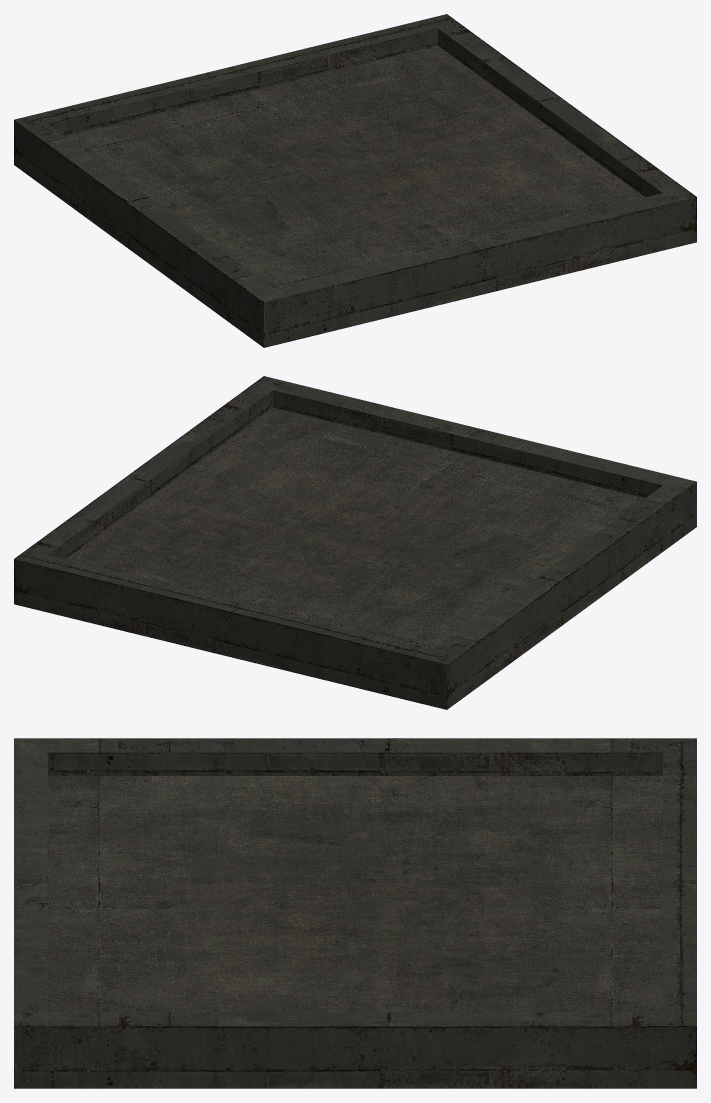
Rendered from floor_ceiling_hr_6.glb.
3 renders of one model, top to bottom at view 1: azimuth 30°, elevation 25°; view 2: azimuth 150°, elevation 25°; view 3: azimuth 270°, elevation 25°, orthographic. The views are drawn at different scales.
Visible parts, largest first — view 1: floor_ceiling_hr_6; view 2: floor_ceiling_hr_6; view 3: floor_ceiling_hr_6.
Boxes of the visible parts, x1=… form: floor_ceiling_hr_6: x1=14, y1=14, x2=696, y2=347; floor_ceiling_hr_6: x1=14, y1=376, x2=696, y2=709; floor_ceiling_hr_6: x1=14, y1=738, x2=696, y2=1088.
Size of the model in its own units: 4 by 0.4 by 4.
2 materials, 2 textured.
